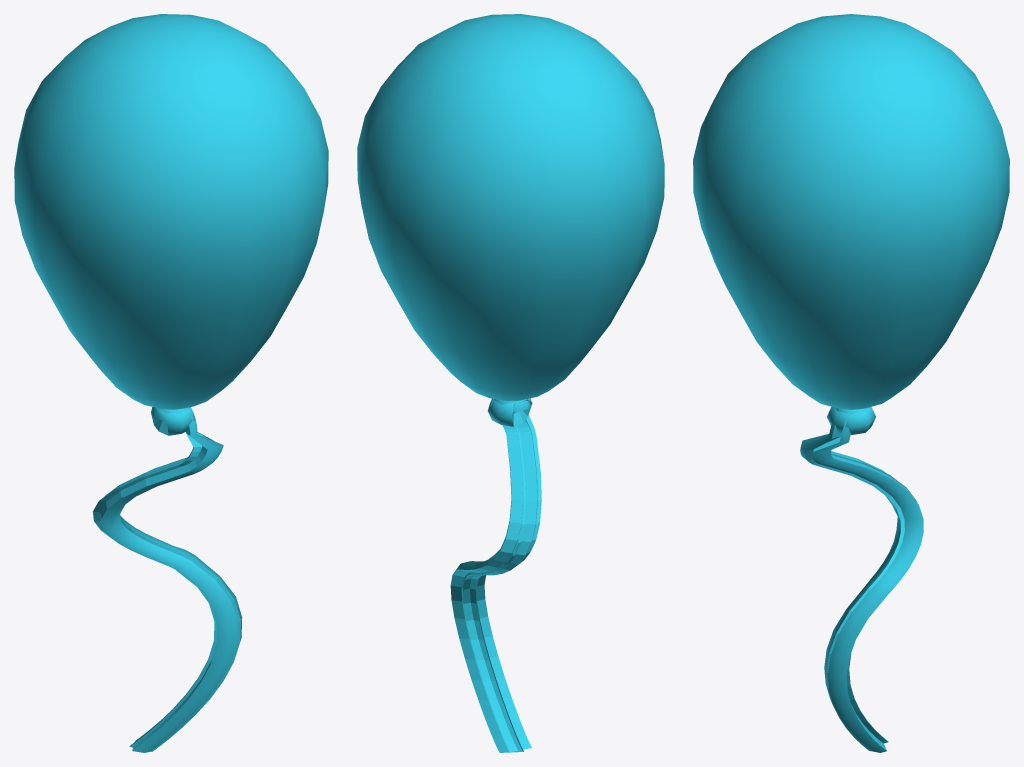
Rendered from Balloon 1.fbx.
The picture shows the model from 3 angles, left to right: view 1: azimuth 30°, elevation 25°; view 2: azimuth 150°, elevation 25°; view 3: azimuth 270°, elevation 25°; orthographic projection. The views are drawn at different scales.
Parts seen in each view (by area): view 1: Balloon_007; view 2: Balloon_007; view 3: Balloon_007.
Boxes of the visible parts, bbox=[...] form: Balloon_007: bbox=[14, 14, 328, 752]; Balloon_007: bbox=[357, 14, 664, 752]; Balloon_007: bbox=[693, 14, 1009, 752].
Size of the model in its own units: 36.12 by 91.26 by 36.12.
